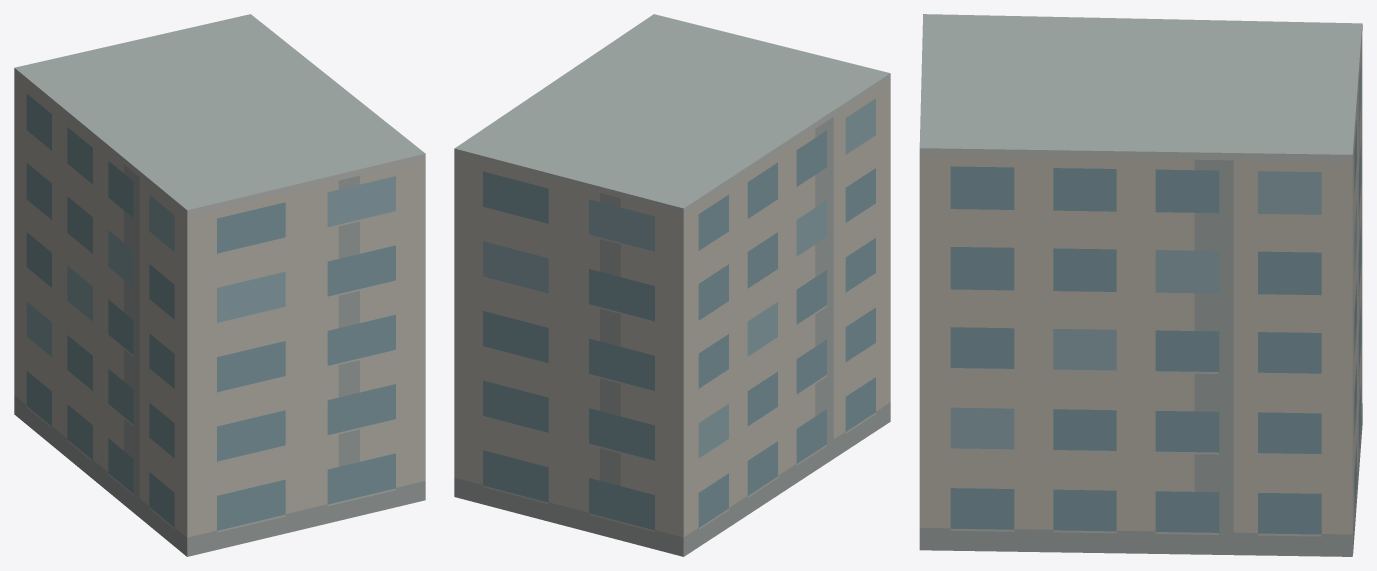
File: survey-upis-33035658.glb
The picture shows the model from 3 angles, left to right: view 1: azimuth 30°, elevation 25°; view 2: azimuth 150°, elevation 25°; view 3: azimuth 270°, elevation 25°; orthographic projection. The views are drawn at different scales.
Parts seen in each view (by area): view 1: survey-upis-33035658.tmp; view 2: survey-upis-33035658.tmp; view 3: survey-upis-33035658.tmp.
Boxes of the visible parts, <box> form: survey-upis-33035658.tmp: <box>14,14,425,556</box>; survey-upis-33035658.tmp: <box>454,14,890,556</box>; survey-upis-33035658.tmp: <box>919,14,1362,556</box>.
Size of the model in its own units: 10 by 13.3 by 13.28.
